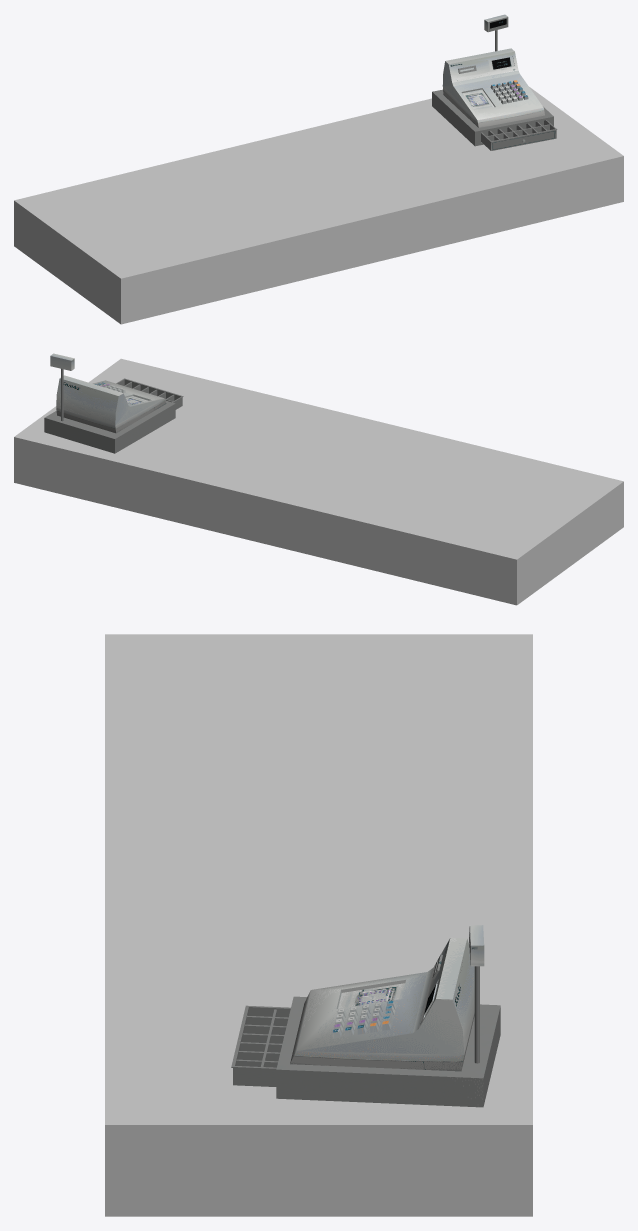
The model's file is Cashier.fbx.
3 renders of one model, top to bottom at view 1: azimuth 30°, elevation 25°; view 2: azimuth 150°, elevation 25°; view 3: azimuth 270°, elevation 25°, orthographic. The views are drawn at different scales.
Parts seen in each view (by area): view 1: Cube, CashRegister; view 2: Cube, CashRegister; view 3: Cube, CashRegister.
Part boxes in pixels (bbox=[...]): Cube: bbox=[14, 87, 623, 324]; CashRegister: bbox=[432, 14, 557, 150]; Cube: bbox=[14, 358, 623, 605]; CashRegister: bbox=[44, 353, 183, 453]; Cube: bbox=[105, 634, 532, 1216]; CashRegister: bbox=[231, 925, 500, 1107].
Size of the model in its own units: 727 by 171 by 268.
